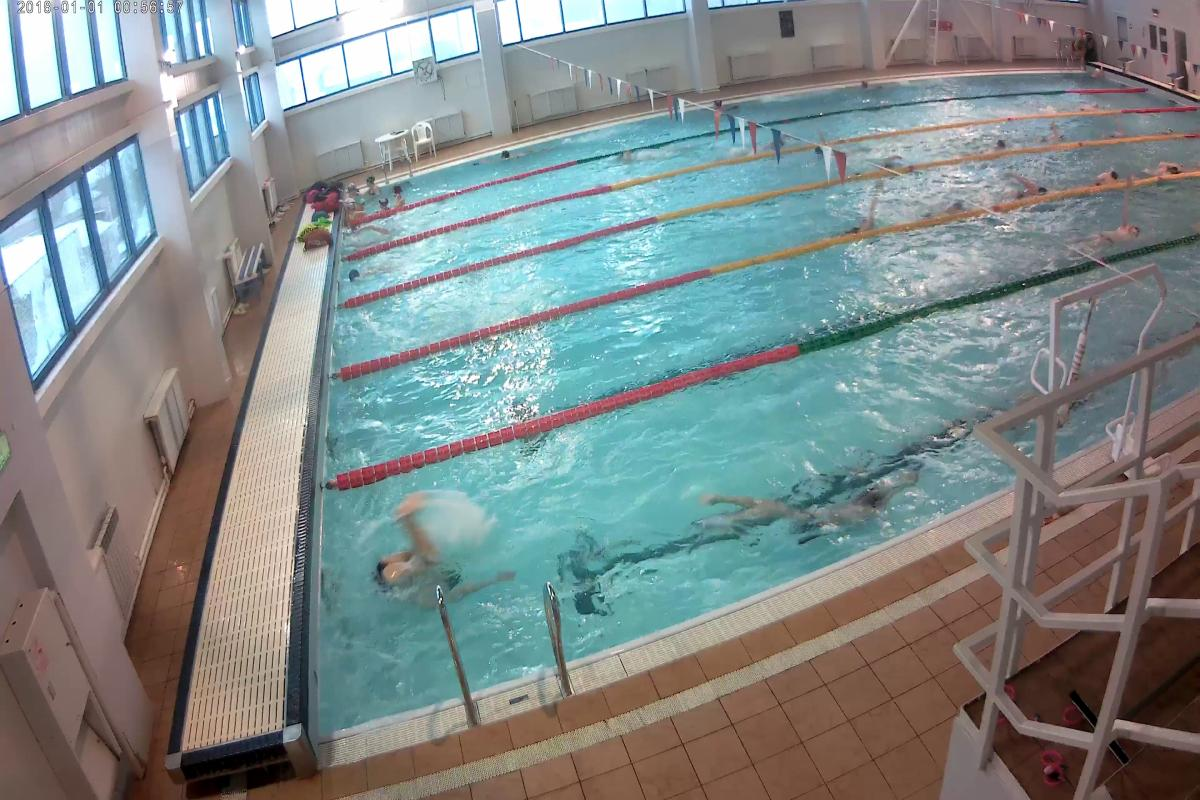swimmer: (352, 505, 506, 611), (723, 466, 911, 527), (1086, 222, 1144, 252), (999, 171, 1052, 201), (1152, 154, 1188, 176), (1093, 164, 1128, 186)
